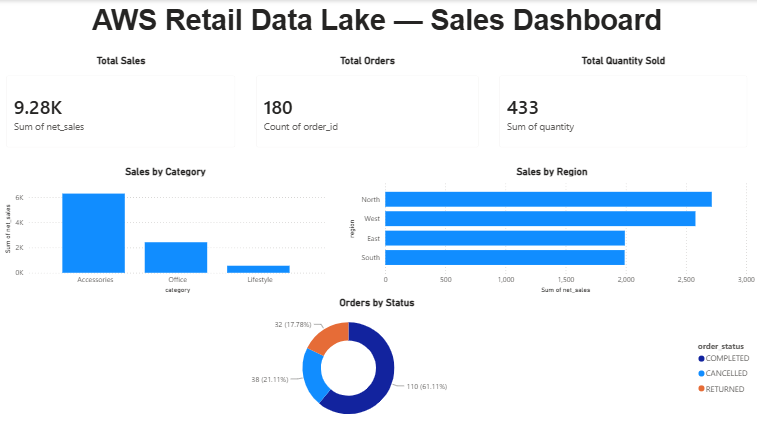

The dashboard page shown, as its layout file describes it:
{"tool":"powerbi","page":{"name":"Page 1","canvas":[1280,720],"ordinal":0},"visuals":[{"type":"clusteredColumnChart","title":"Sales by Category","fields":{"Y":["Sum(curated_orders.net_sales)"],"Category":["curated_orders.category"]},"box":[10.1,277.2,549.3,220.1],"z":0},{"type":"clusteredBarChart","title":"Sales by Region","fields":{"Category":["curated_orders.region"],"Y":["Sum(curated_orders.net_sales)"]},"box":[587.9,277.2,692.1,220.1],"z":1000},{"type":"cardVisual","title":"Total Sales","fields":{"Data":["Sum(curated_orders.net_sales)"]},"box":[0,90.7,419.9,174.7],"z":3000},{"type":"cardVisual","title":"Total Orders","fields":{"Data":["Count(curated_orders.order_id)"]},"box":[419.9,90.7,408.2,174.7],"z":4000},{"type":"cardVisual","title":"Total Quantity Sold","fields":{"Data":["Sum(curated_orders.quantity)"]},"box":[828.1,90.7,451.9,174.7],"z":4001},{"type":"donutChart","title":"Orders by Status","fields":{"Category":["curated_orders.order_status"],"Y":["Count(curated_orders.order_id)"]},"box":[0,497.2,1280,223.4],"z":4002},{"type":"textbox","box":[0,1.7,1280,89],"z":4003}]}

Visuals, with their boxes in screenshot pixels (x1, y1, x2, y2), scaled from the page's 1280x720 canvas onto the 757x429 screenshot:
"Sales by Category" clusteredColumnChart: pyautogui.locateOnScreen(6, 165, 331, 296)
"Sales by Region" clusteredBarChart: pyautogui.locateOnScreen(348, 165, 756, 296)
"Total Sales" cardVisual: pyautogui.locateOnScreen(0, 54, 248, 158)
"Total Orders" cardVisual: pyautogui.locateOnScreen(248, 54, 490, 158)
"Total Quantity Sold" cardVisual: pyautogui.locateOnScreen(490, 54, 756, 158)
"Orders by Status" donutChart: pyautogui.locateOnScreen(0, 296, 756, 428)
textbox: pyautogui.locateOnScreen(0, 1, 756, 54)
